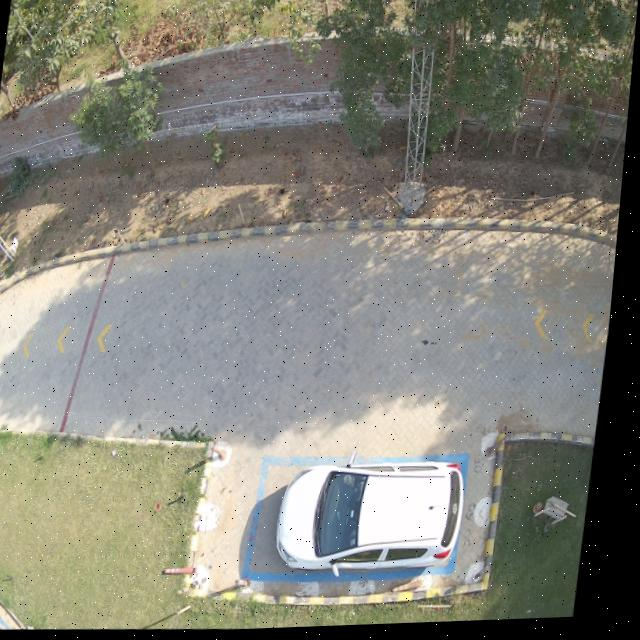car: (286, 465, 473, 576)
